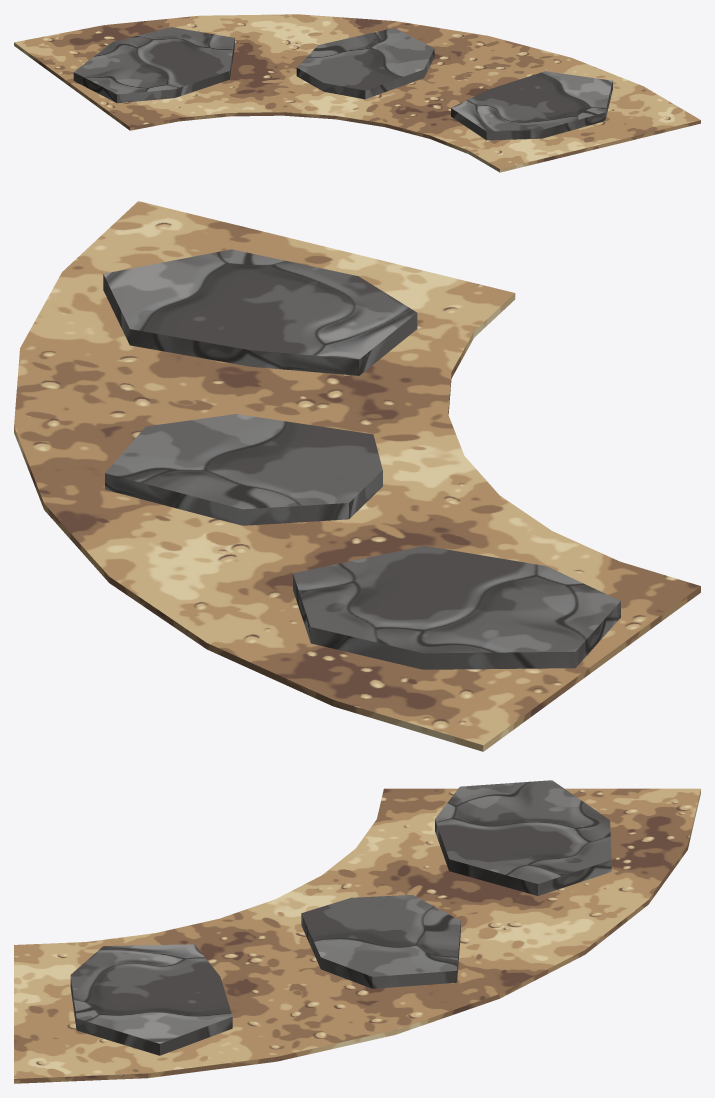
File: path_curve.glb
The picture shows the model from 3 angles, top to bottom: view 1: azimuth 30°, elevation 25°; view 2: azimuth 150°, elevation 25°; view 3: azimuth 270°, elevation 25°; orthographic projection. The views are drawn at different scales.
Parts seen in each view (by area): view 1: Ground; view 2: Ground; view 3: Ground.
Part boxes in pixels (x1,y1,x2,y2): Ground: [14, 14, 700, 172]; Ground: [14, 201, 700, 751]; Ground: [14, 780, 700, 1083].
Size of the model in its own units: 2.6 by 0.07 by 2.6.
Materials: 2 (2 with a texture image).
